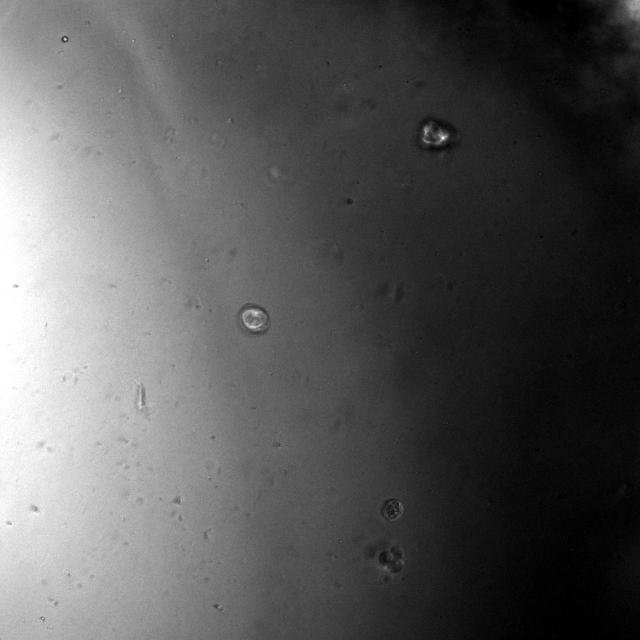organoid: (415, 116, 459, 151), (238, 303, 269, 334), (376, 546, 404, 574), (381, 498, 403, 521)
